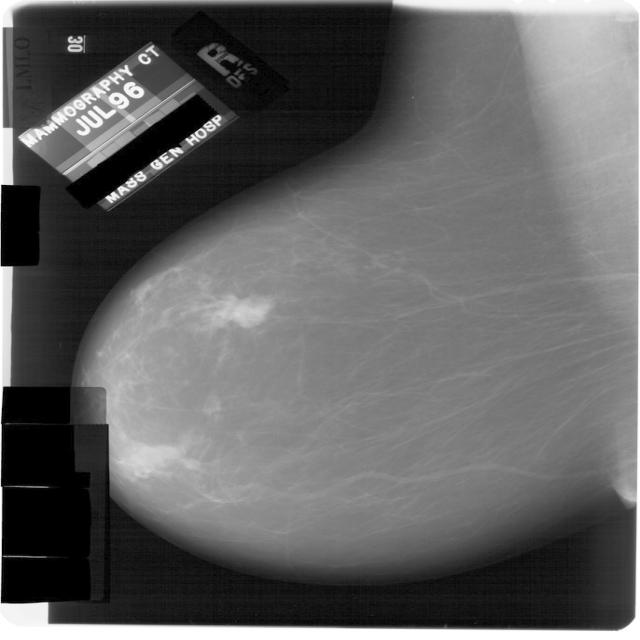tumour: (208, 295, 272, 327)
